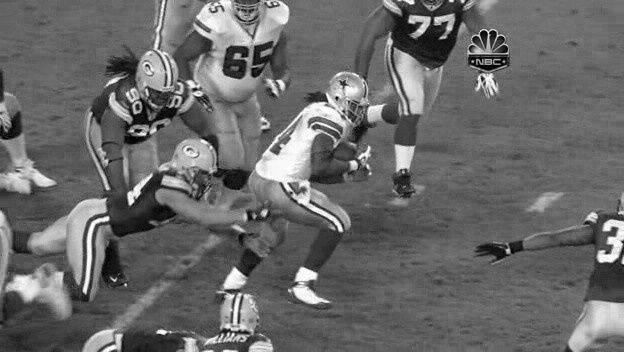person: (331, 76, 367, 121), (330, 76, 366, 121), (332, 76, 368, 121), (331, 75, 367, 120), (331, 77, 367, 122)
target_negative: (161, 37, 322, 242), (156, 152, 600, 190), (352, 137, 483, 264), (21, 265, 142, 329), (418, 336, 609, 350), (618, 274, 622, 285)
